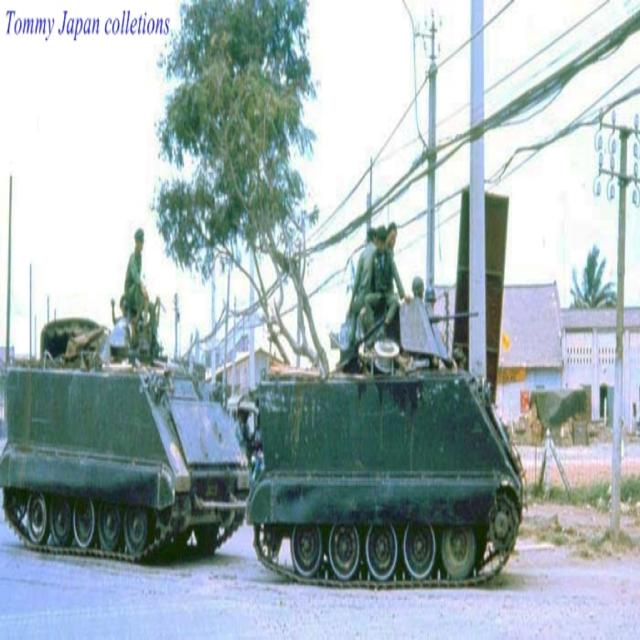tank: (244, 292, 526, 588), (0, 294, 253, 562)
